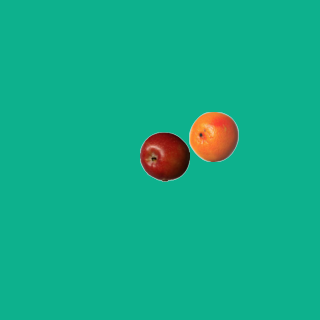Apple Braeburn: (139, 131, 189, 181)
Grapefruit Pink: (188, 111, 238, 161)
